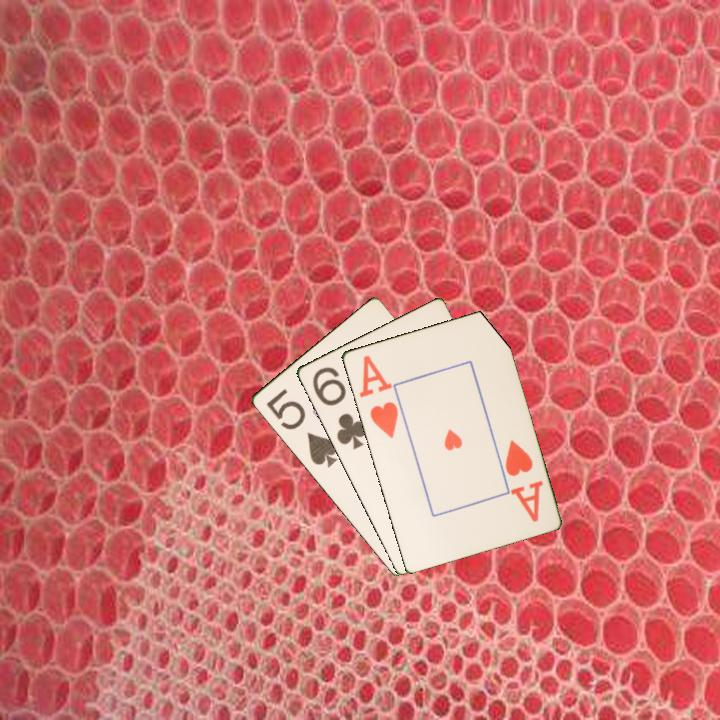5s: (262, 385, 340, 471)
6c: (308, 363, 370, 452)
Ah: (355, 351, 401, 441), (501, 436, 546, 525)
